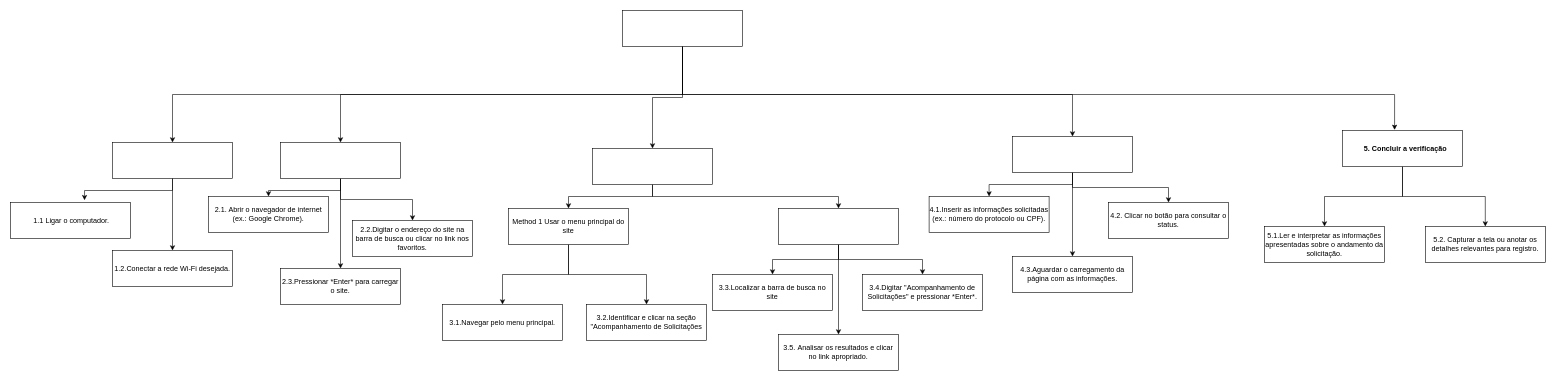
Some shapes in this 1556 by 381 pixel diagram are drawn without their labels. Here are the shapes that lost their labels. From the top down, the centre of each, then its label:
At [682,28]: "0. Verificar o status de uma solicitação no site da DPDF".
At [172,160]: "1. Conectar-se à rede Wi-Fi".
At [340,160]: "2. Acessar o site da Defensoria Pública".
At [652,166]: "3. Localizar a área de acompanhamento de solicitações".
At [1072,154]: "4. Verificar o status da solicitação".
At [838,226]: "Method 2 Usar a barra de busca (caso não encontre a seção no menu)".
